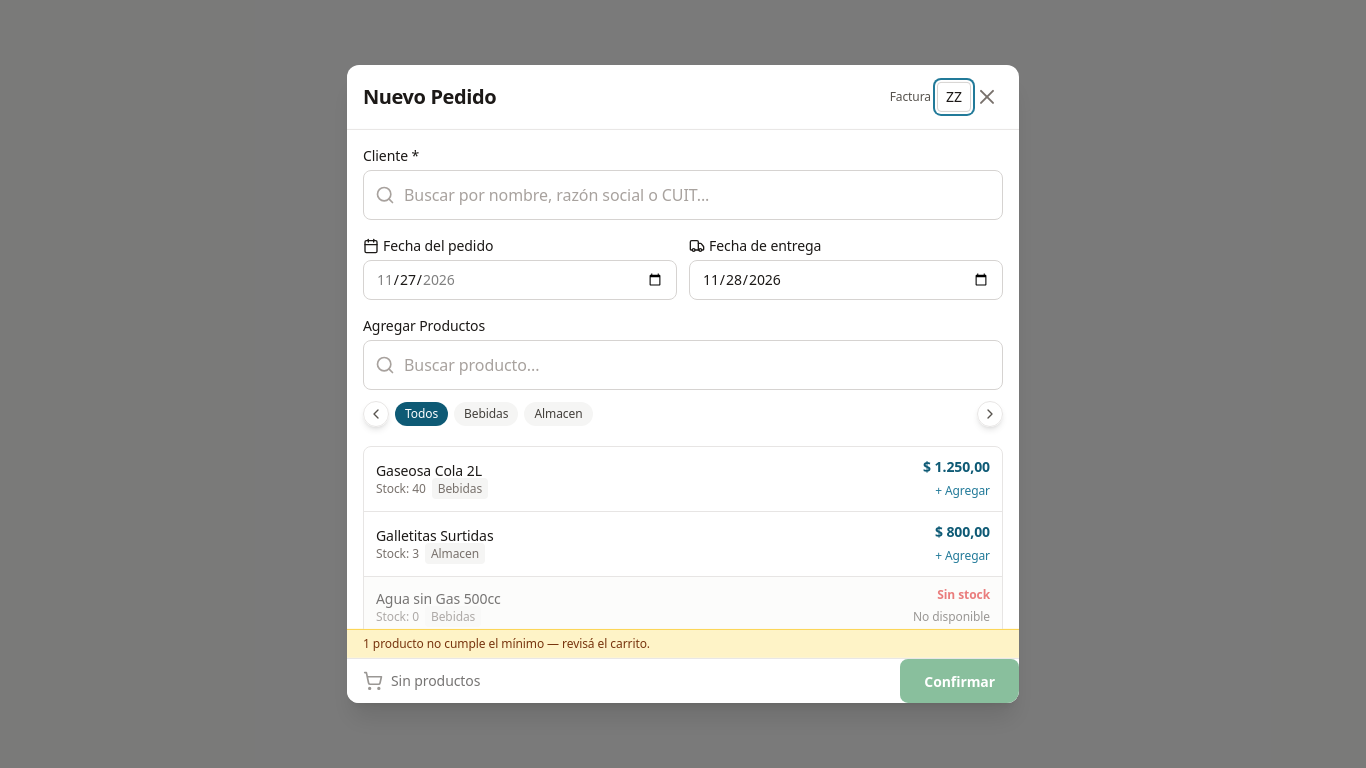
Scenario: ModalPedido — guardas del confirmar › las violaciones de mínimo de venta listan el producto y apagan el confirmar
Type "Kiosco El Sol" into the field with placeholder "Buscar por nombre, razón social o CUIT..." at (683, 195), box x1=363 y1=170 x2=1003 y2=220
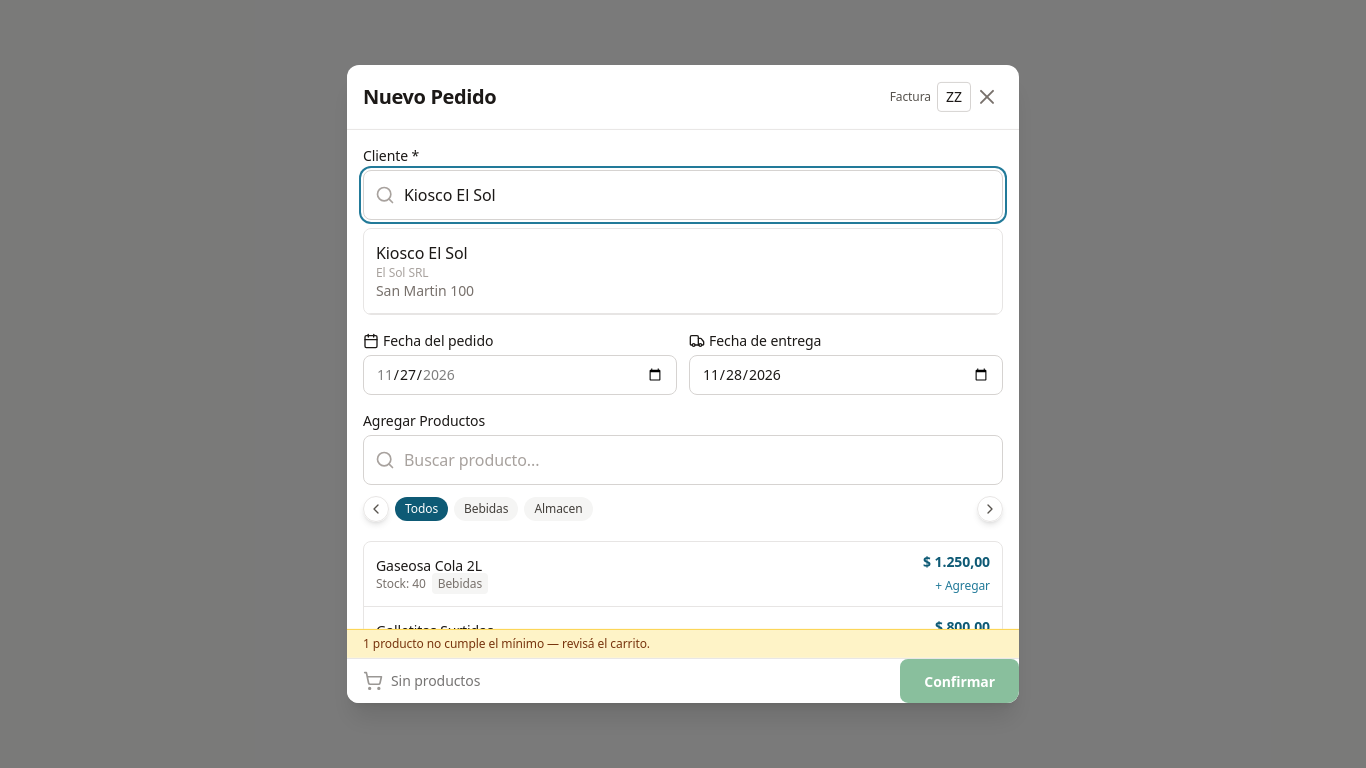
Click the option "Kiosco El Sol El Sol SRL San Martin 100" at (422, 253), box x1=364 y1=229 x2=1002 y2=314
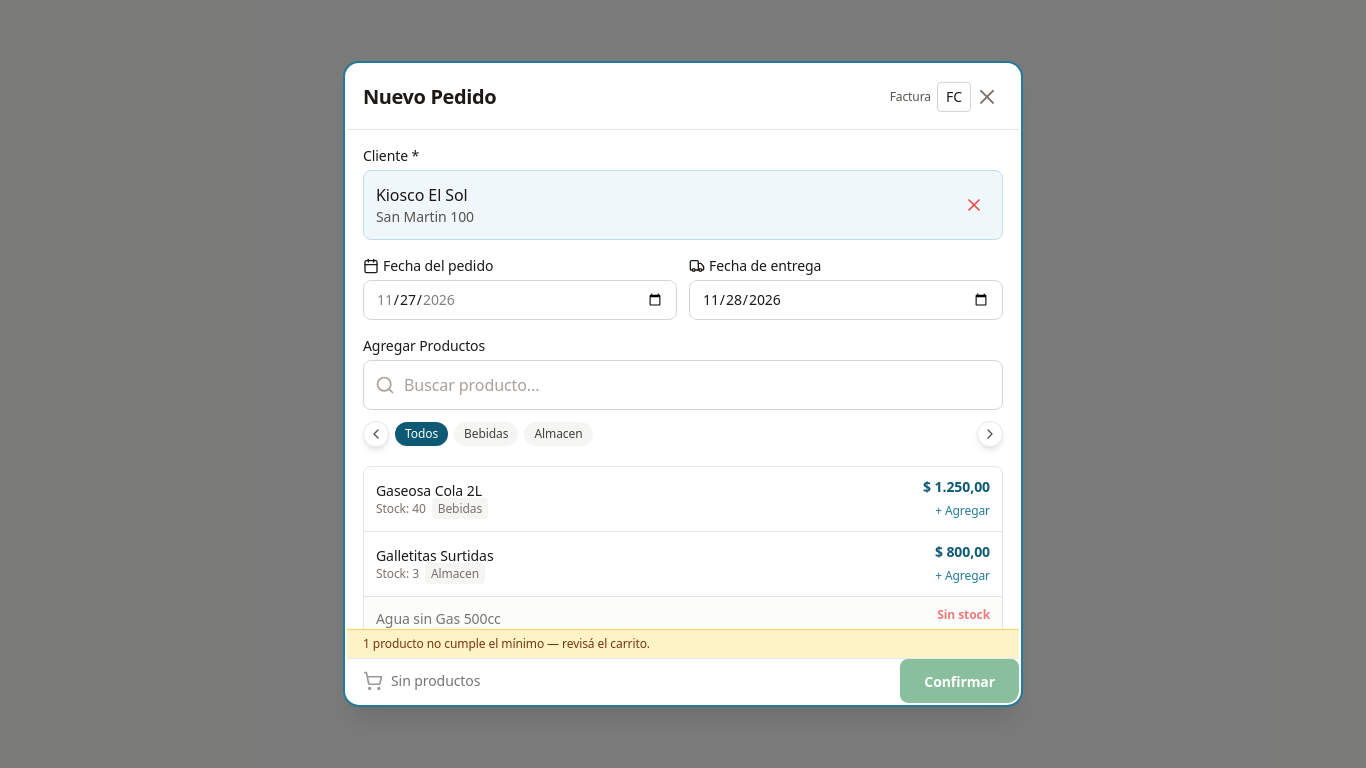
Type "Gaseosa" into the field with placeholder "Buscar producto..." at (683, 385), box x1=363 y1=360 x2=1003 y2=410
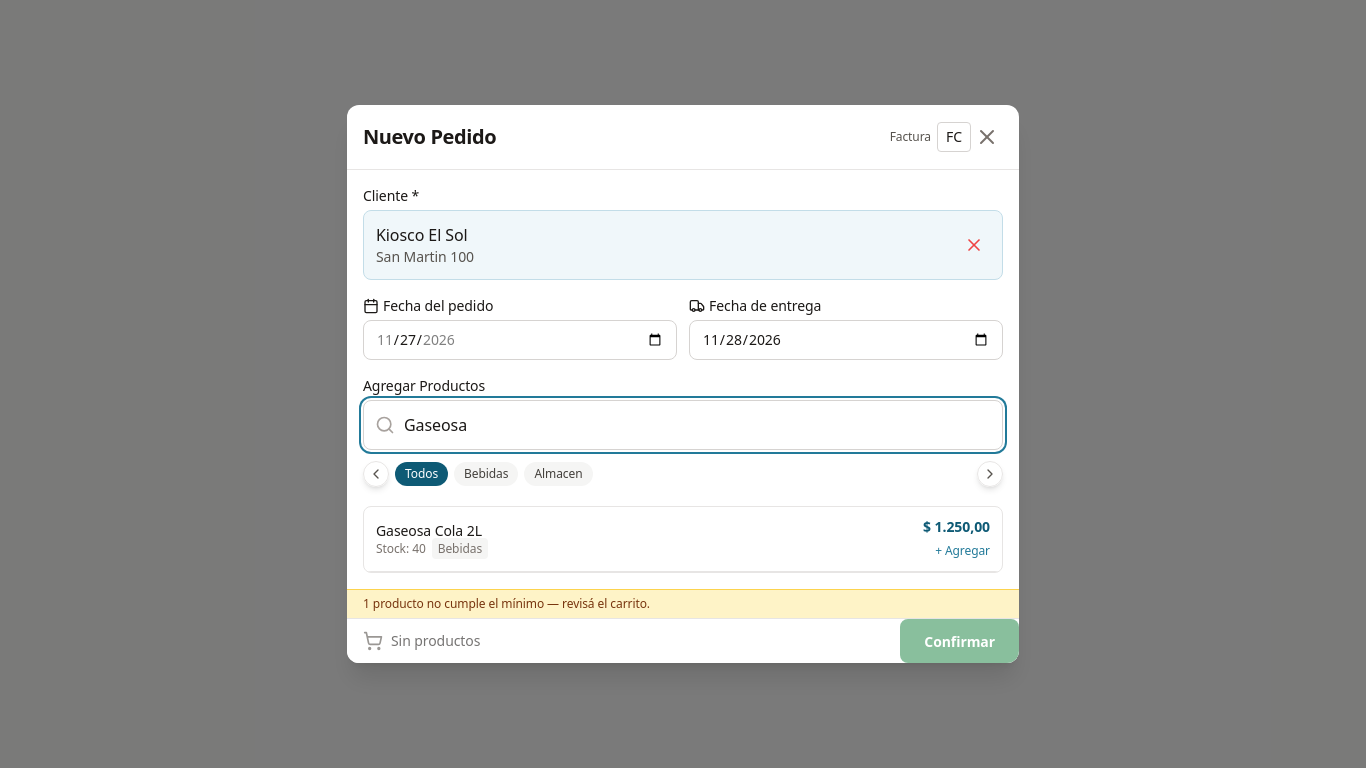
Click the text "+ Agregar" at (963, 550), box x1=935 y1=542 x2=990 y2=559
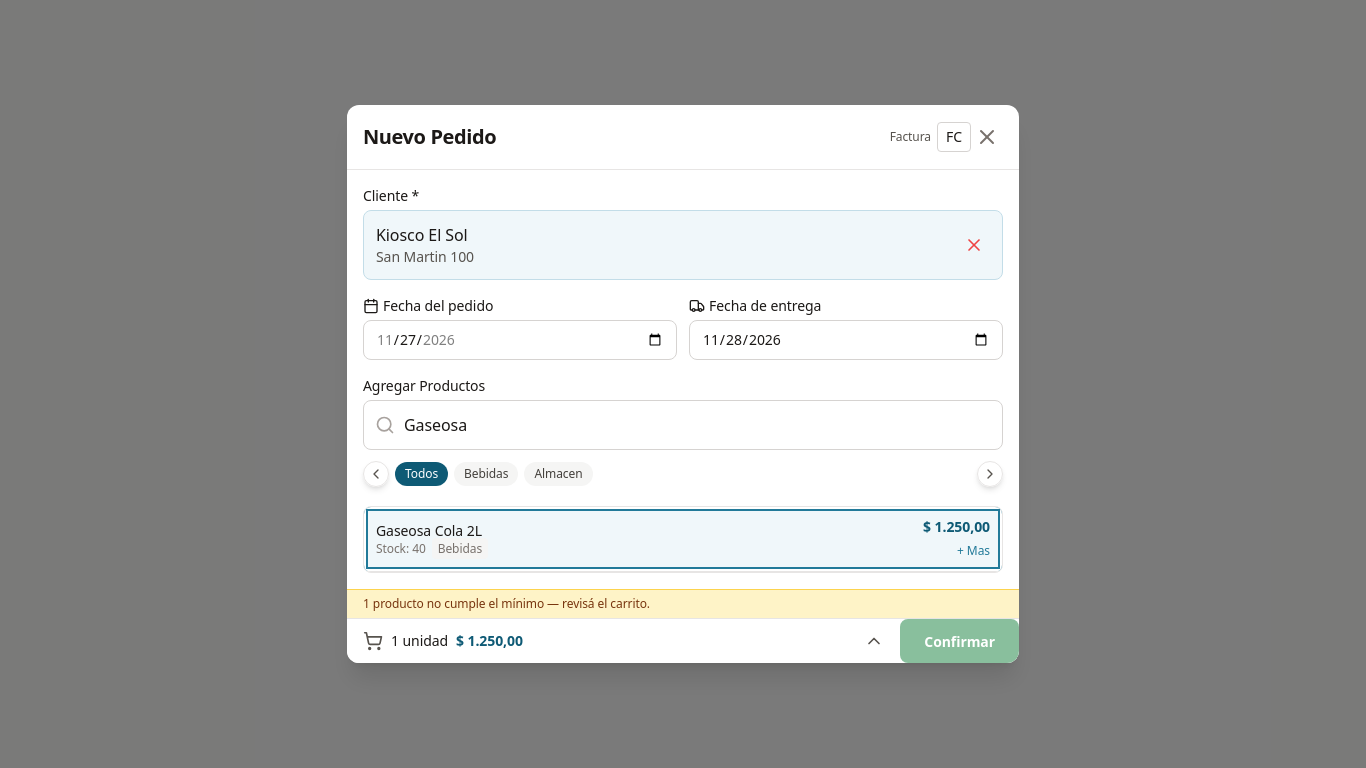
Click the button "1 unidad $ 1.250,00" at (420, 640), box x1=347 y1=619 x2=900 y2=663
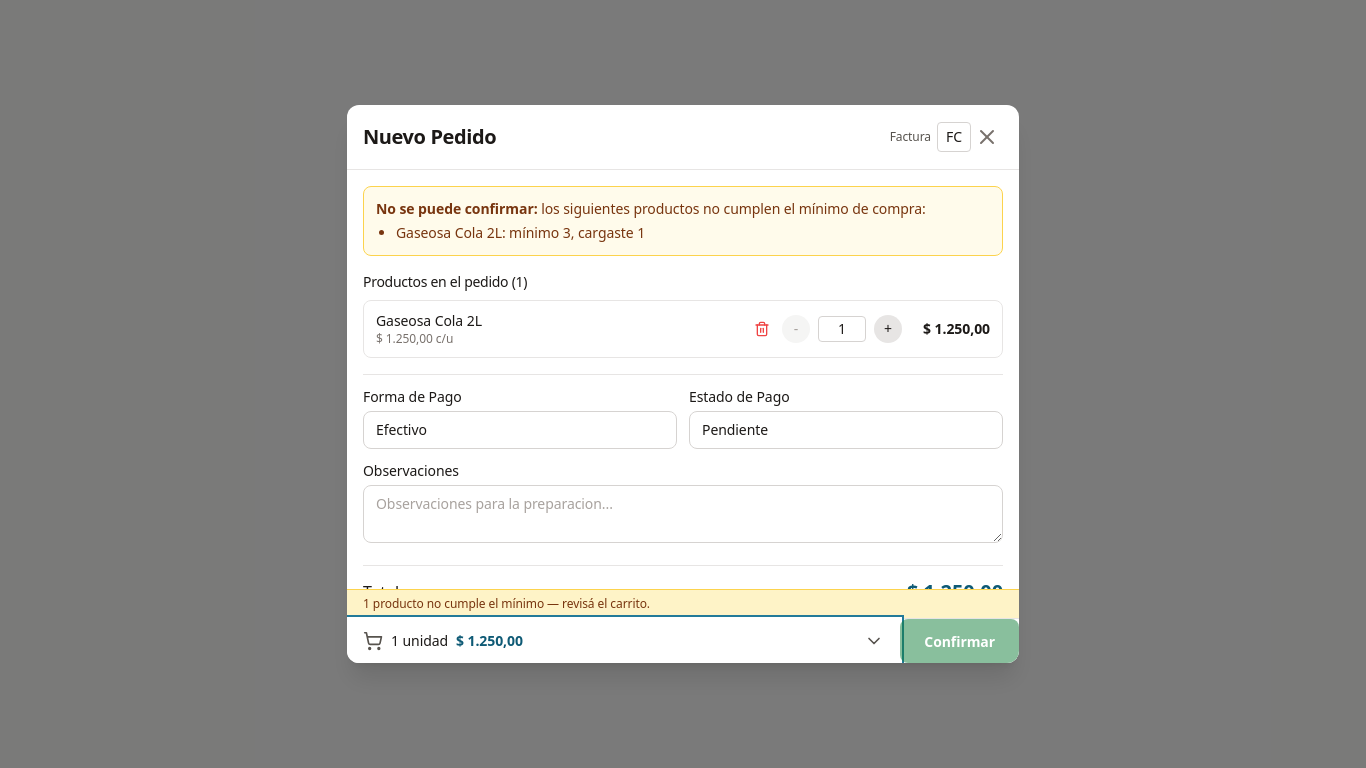
Expected: the text "1 producto no cumple el mínimo — revisá el carrito." is shown, x1=347 y1=589 x2=1019 y2=618
Expected: the text "los siguientes productos no cumplen el mínimo de compra:" is shown, x1=538 y1=199 x2=926 y2=218
Expected: the list item "Gaseosa Cola 2L: mínimo 3, cargaste 1" is shown, x1=396 y1=223 x2=645 y2=242
